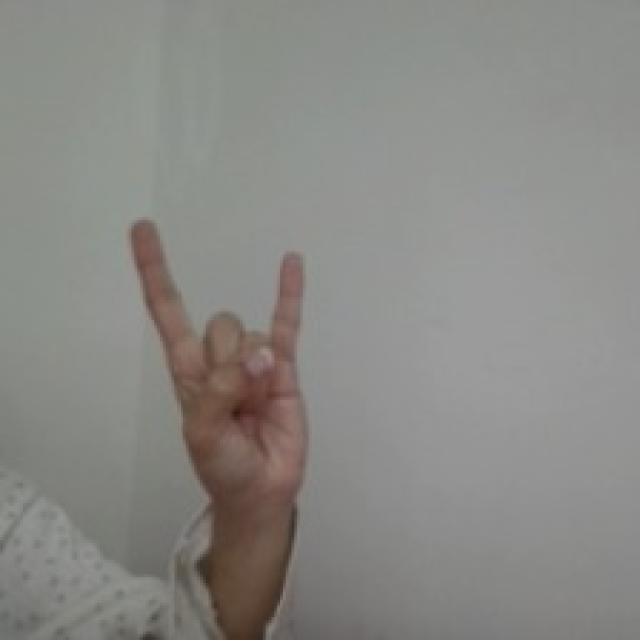No: (126, 212, 318, 510)
